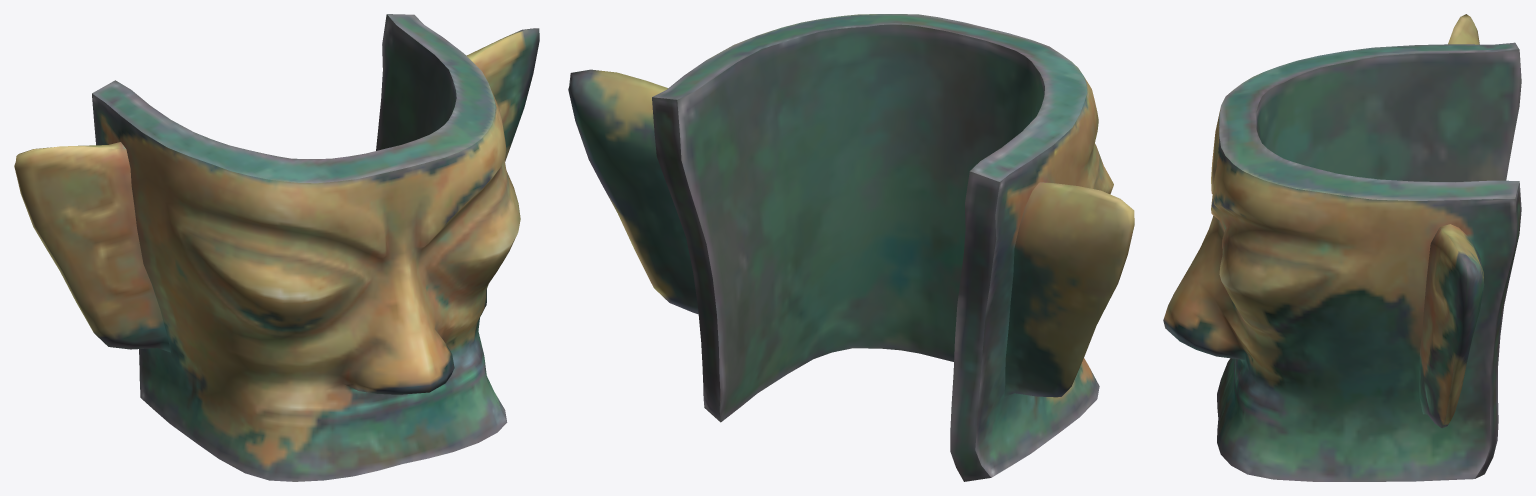
File: Homeworld_Exterior_Ly_Thing_Prop_Shenxiang_02_Vo.fbx
3 renders of one model, left to right at view 1: azimuth 30°, elevation 25°; view 2: azimuth 150°, elevation 25°; view 3: azimuth 270°, elevation 25°, orthographic. The views are drawn at different scales.
Parts seen in each view (by area): view 1: Homeworld_Exterior_Ly_Thing_Prop_Shenxiang_02_Vo; view 2: Homeworld_Exterior_Ly_Thing_Prop_Shenxiang_02_Vo; view 3: Homeworld_Exterior_Ly_Thing_Prop_Shenxiang_02_Vo.
Part boxes in pixels (box(x1,y1,x2,y2)): Homeworld_Exterior_Ly_Thing_Prop_Shenxiang_02_Vo: box(14, 14, 539, 481); Homeworld_Exterior_Ly_Thing_Prop_Shenxiang_02_Vo: box(568, 14, 1134, 481); Homeworld_Exterior_Ly_Thing_Prop_Shenxiang_02_Vo: box(1163, 14, 1521, 481).
Bounding box in the file's own units: 0.7183 × 0.4074 × 0.4283.
Materials: 1 (1 with a texture image).
